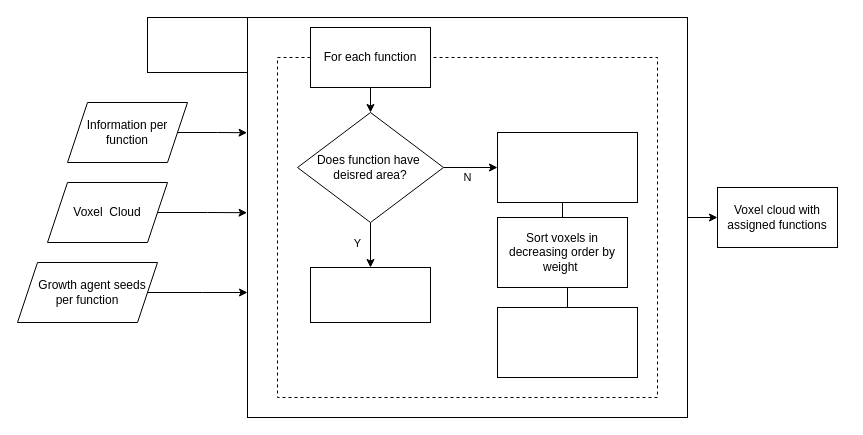
Some shapes in this 863 by 435 pixel diagram are drawn without their labels. Each missing label, with the centre of its shape:
"Do nothing" goes at (x=370, y=294).
"Pick the first voxel in the list as the next assigned function voxel" goes at (x=567, y=342).
"Retrieve all unoccupied points on boundary of currently occupied area" goes at (x=567, y=167).
"SOLVER: Code is repeated every frame" goes at (x=197, y=44).
